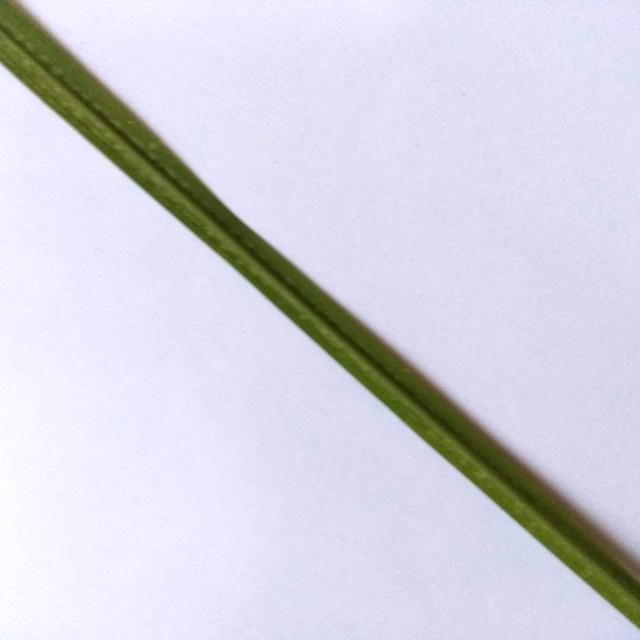Rice_Healthy: (0, 0, 640, 626)
